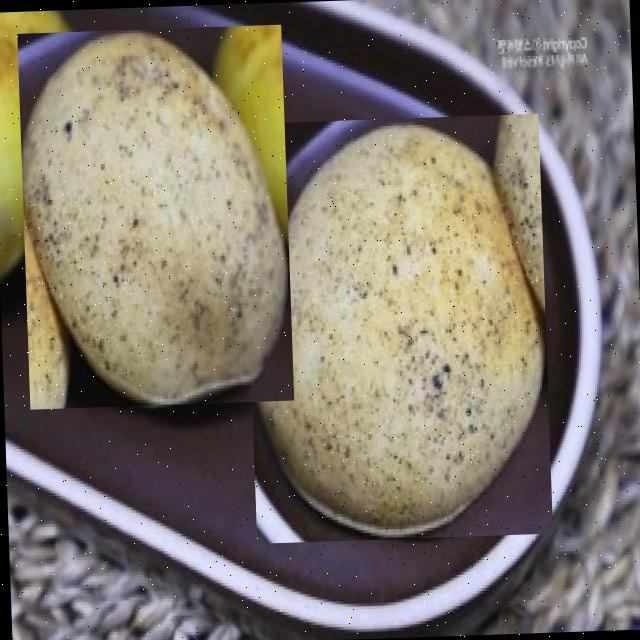Potato: (242, 112, 552, 542), (16, 22, 293, 408)
